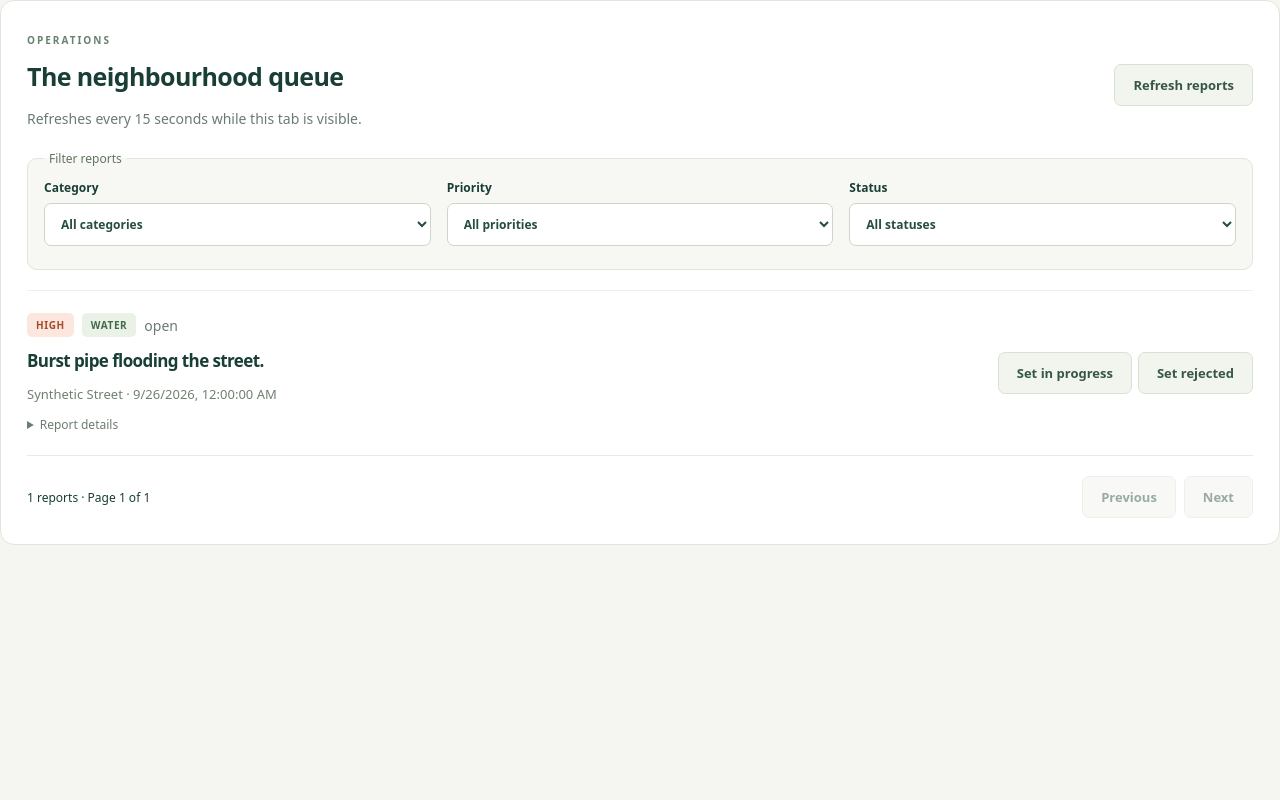
operations dashboard › updates status through the API and reloads the queue
Click the button "Set in progress" at point(1065, 373), box [998,352,1132,394]
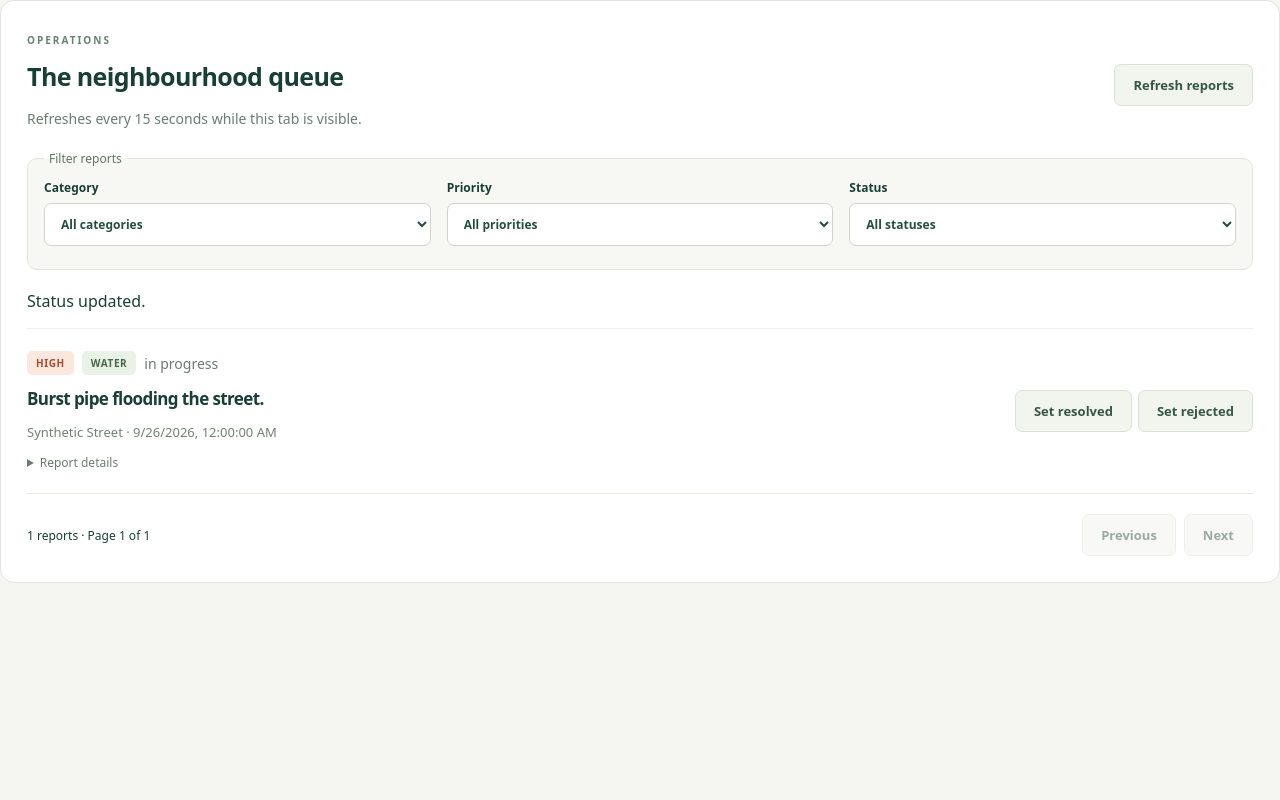
Expected: the text "Status updated." is shown, [27,290,146,312]
Expected: the button "Set resolved" is shown, [1015,390,1132,432]
